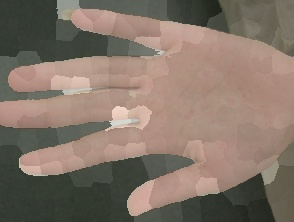SJS-TEN: (111, 0, 294, 208)
